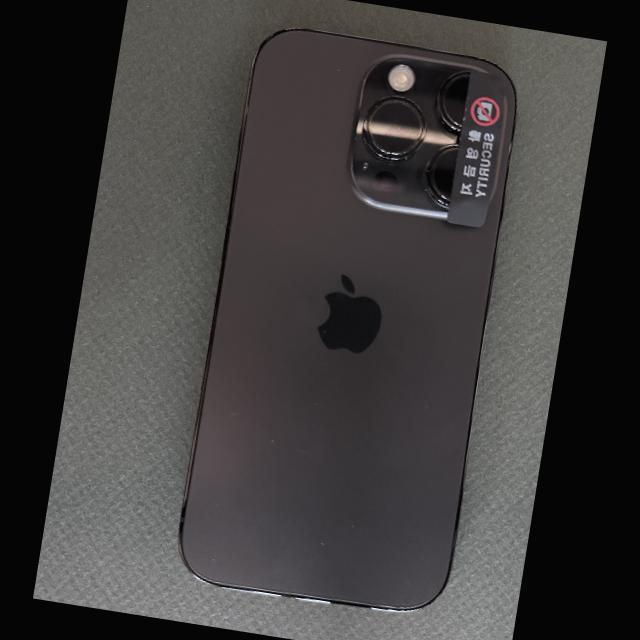lens: (362, 95, 427, 160), (425, 144, 457, 209), (437, 71, 470, 131)
phone: (179, 30, 515, 610)
sticker: (446, 68, 507, 228)
